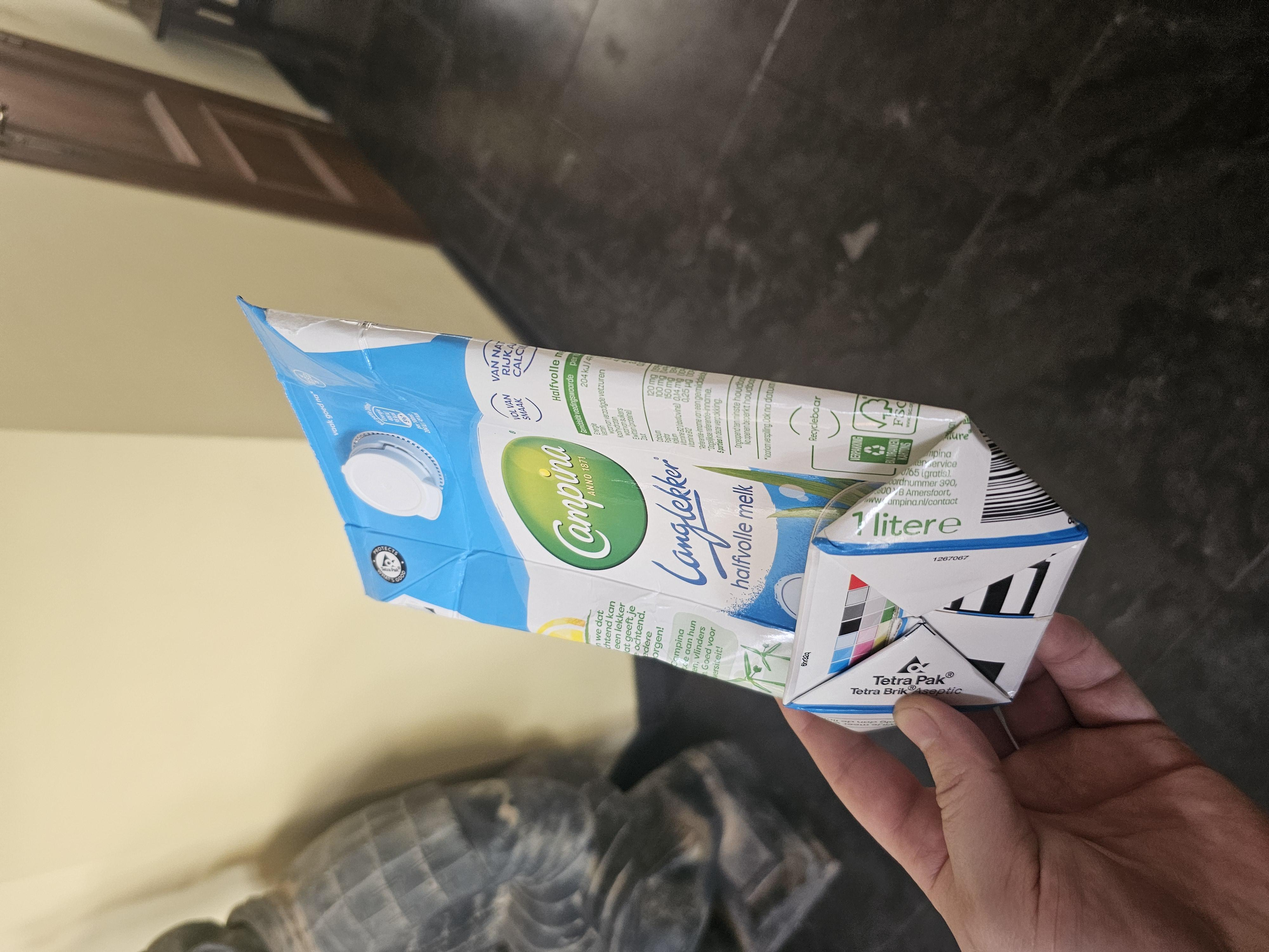Cardboard: (286, 175, 880, 816)
Plastic: (567, 255, 694, 333)
